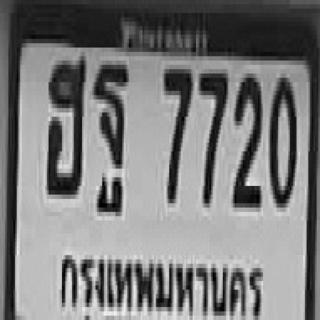A16: (92, 60, 127, 194)
A44: (45, 54, 84, 197)
N00: (268, 74, 295, 203)
N02: (231, 71, 260, 201)
N07: (162, 65, 191, 199), (198, 69, 226, 203)
P04: (54, 242, 266, 320)
